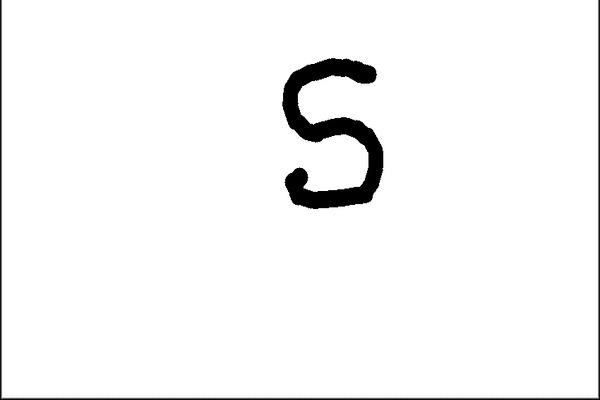S: (271, 54, 395, 212)
